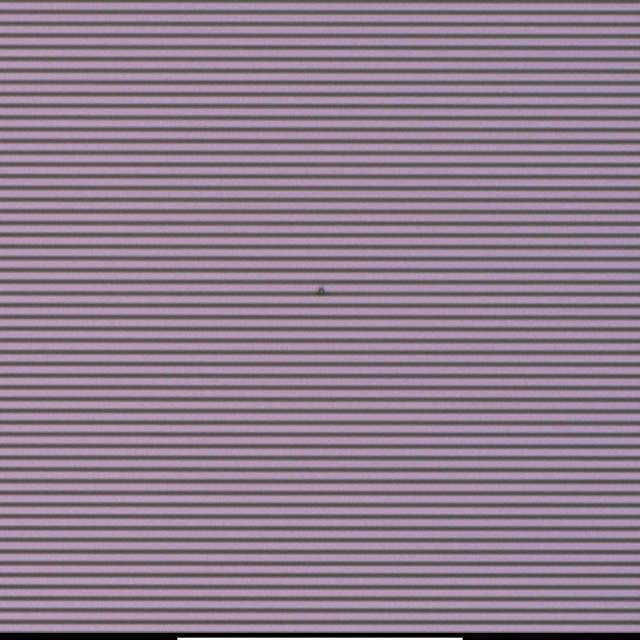nonvisual: (316, 285, 328, 297)
